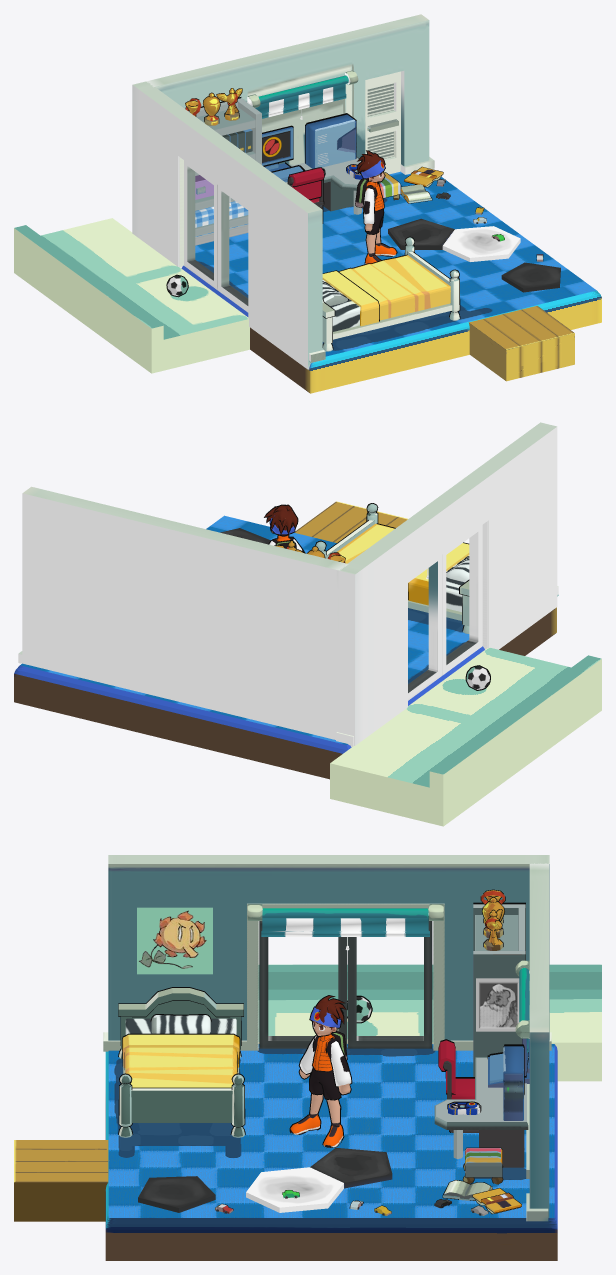
Rendered from gameroom1k.glb.
3 views of the same model, one above another, from view 1: azimuth 30°, elevation 25°; view 2: azimuth 150°, elevation 25°; view 3: azimuth 270°, elevation 25° (orthographic). The views are drawn at different scales.
Parts seen in each view (by area): view 1: Wall_26, Outdoor_28, PIllow_8, Bookcase_11, Case_12, Left Blind.001_33, Lan.001_5, Desk_10, Floor Props.001_23, Monitor_14, Circle_6, Chair_13 (+2 smaller); view 2: Wall_26, Outdoor_28, PIllow_8, Lan.001_5; view 3: Wall_26, PIllow_8, Outdoor_28, Left Blind_27, Boktai021_31, Lan.001_5, Desk_10, Bookcase_11, Floor Props.001_23, Screenshot (14)_30, Case_12, PIllow.001_9 (+6 smaller).
Boxes of the visible parts, x1,y1,x2,y2 form: Wall_26: (132, 14, 601, 393); Outdoor_28: (14, 218, 249, 373); PIllow_8: (322, 237, 459, 351); Bookcase_11: (188, 98, 261, 245); Case_12: (305, 114, 356, 168); Left Blind.001_33: (247, 70, 358, 119); Lan.001_5: (355, 150, 396, 263); Desk_10: (285, 156, 380, 214); Floor Props.001_23: (379, 167, 443, 203); Monitor_14: (262, 127, 302, 182); Circle_6: (185, 88, 242, 125); Chair_13: (288, 168, 324, 209); Wall_26: (14, 422, 558, 779); Outdoor_28: (330, 647, 601, 826); PIllow_8: (316, 503, 469, 633); Lan.001_5: (265, 505, 303, 552); Wall_26: (14, 855, 557, 1260); PIllow_8: (118, 988, 244, 1137); Outdoor_28: (258, 964, 601, 1081); Left Blind_27: (247, 904, 443, 950); Boktai021_31: (137, 907, 212, 974); Lan.001_5: (290, 996, 351, 1147); Desk_10: (434, 1057, 528, 1167); Bookcase_11: (473, 904, 525, 1076); Floor Props.001_23: (443, 1148, 521, 1213); Screenshot (14)_30: (476, 978, 519, 1031); Case_12: (503, 1046, 523, 1120); PIllow.001_9: (118, 987, 245, 1134).
Bounding box in the file's own units: 63.44 × 27.95 × 65.84.
15 materials, 14 textured.
